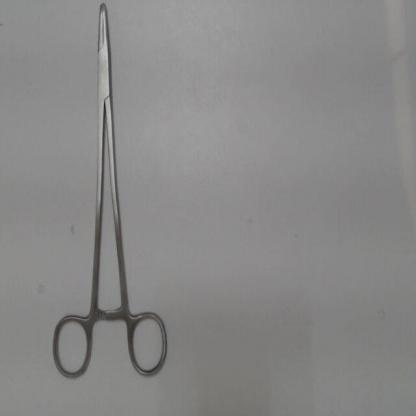8 Mayo Needle Holder: (47, 0, 175, 384)
